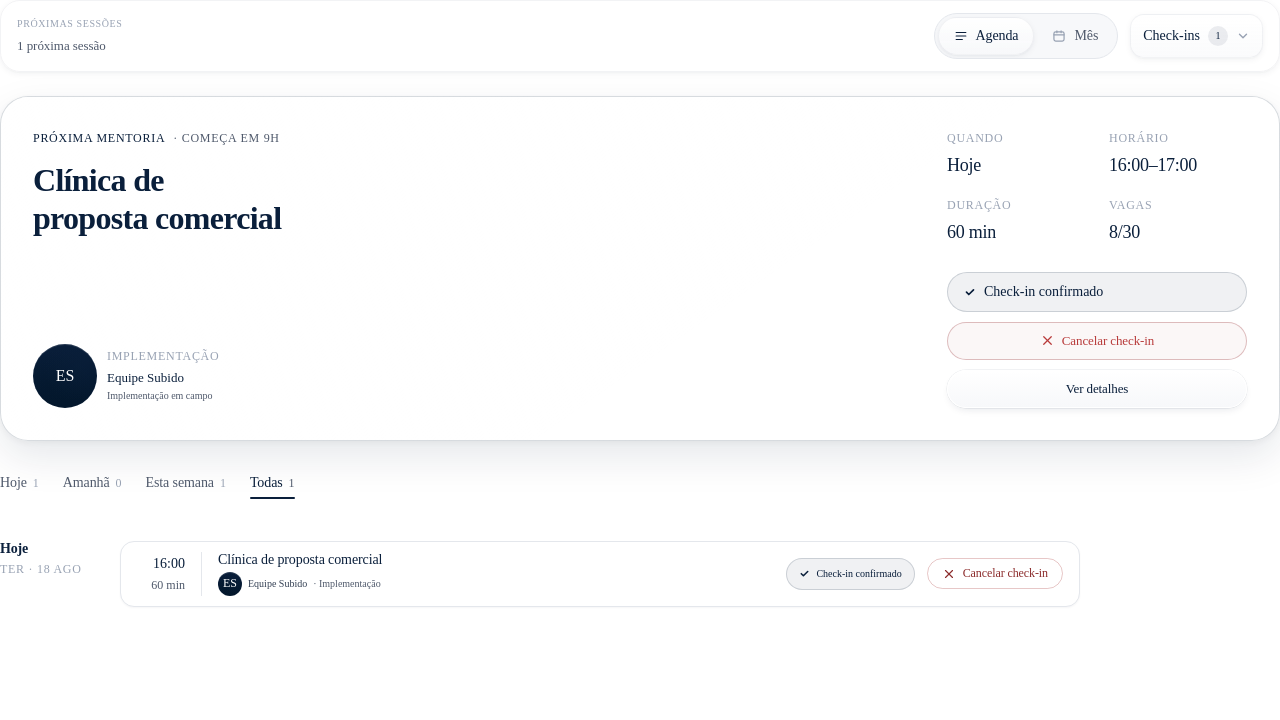
Test: ações de check-in nas mentorias › explica a consequência antes de cancelar uma vaga
This screenshot has width=1280, height=720.
Click the button "Cancelar check-in" below "8/30" at (1097,341), box [947,322,1247,360]
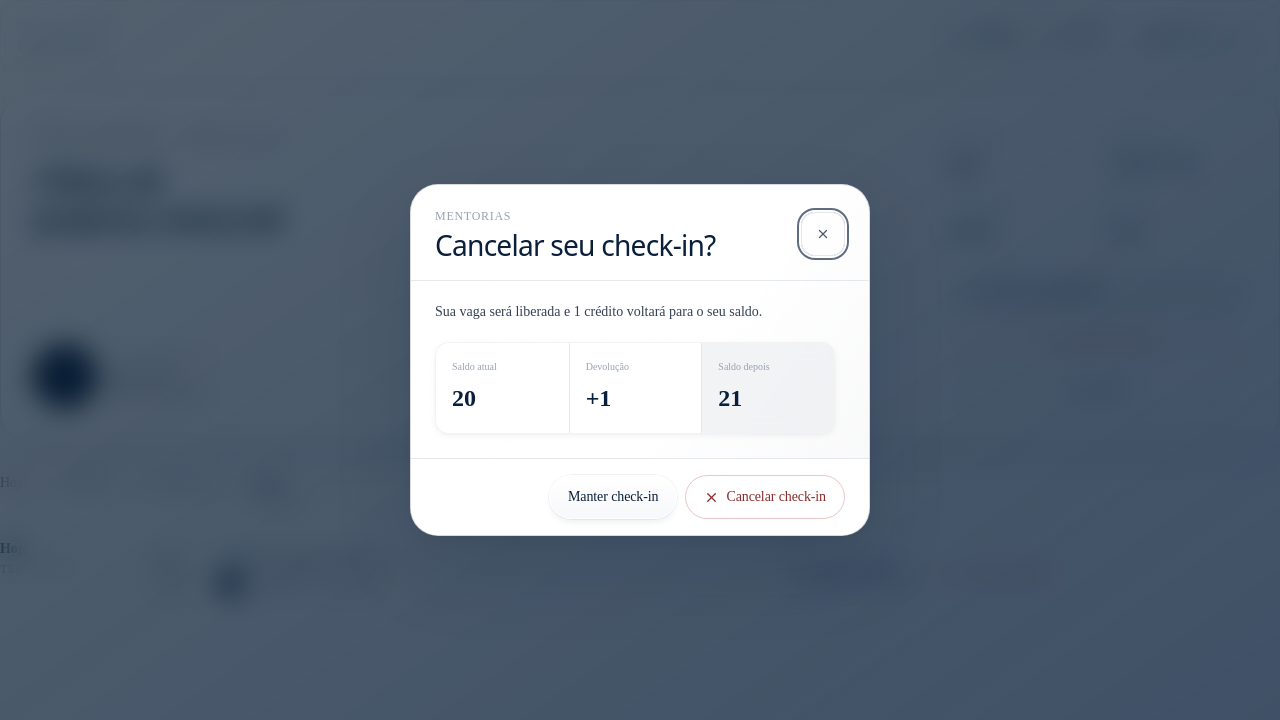
Now the text "Sua vaga será liberada e 1 crédito voltará para o seu saldo." is shown, box [435,304,762,319]
Now the button "Manter check-in" is shown, box [549,475,678,519]
Click the button "Cancelar check-in" at (765,497), box [686,475,845,519]
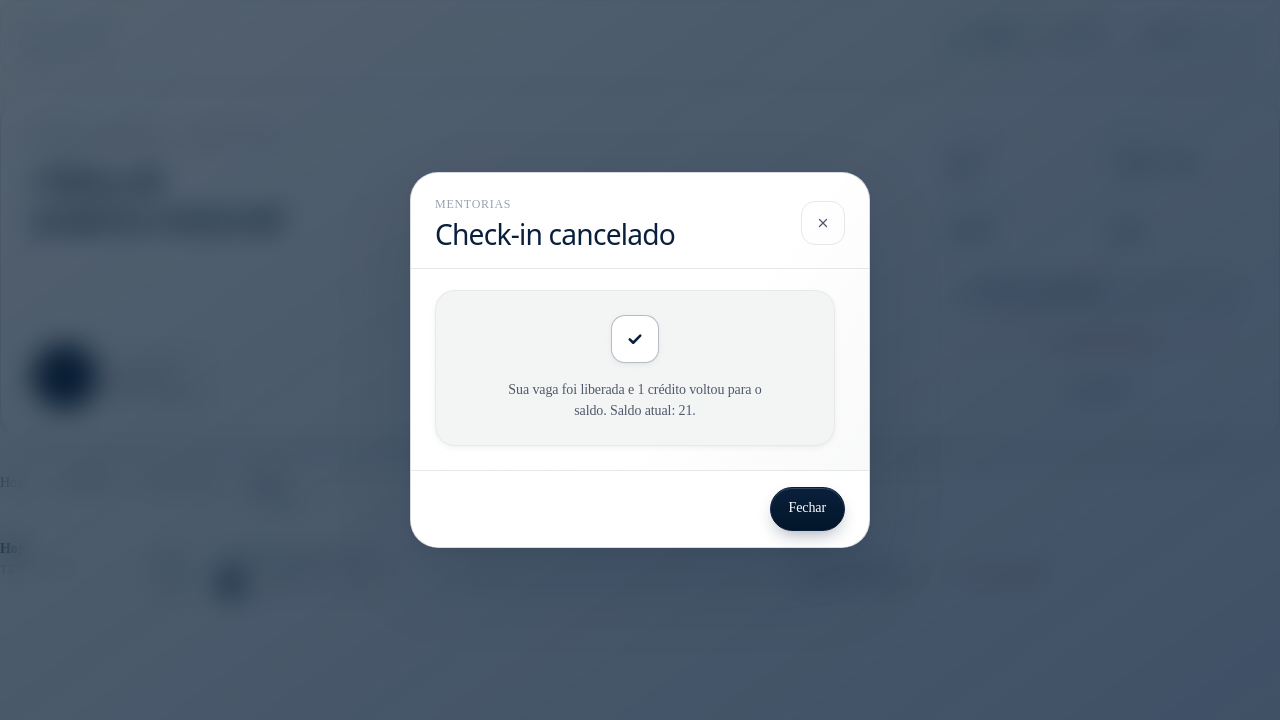
Now the dialog "Check-in cancelado" is shown, box [410,172,870,548]
